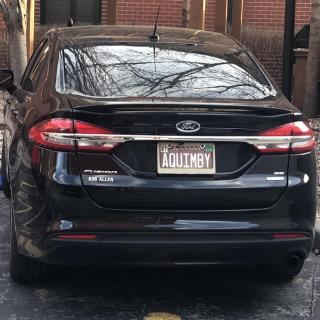license: (158, 142, 217, 176)
